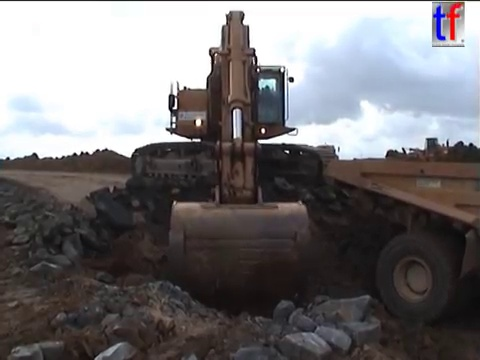excavator: (127, 8, 342, 307)
truck: (320, 156, 480, 326)
wheel loader: (382, 135, 463, 171)
